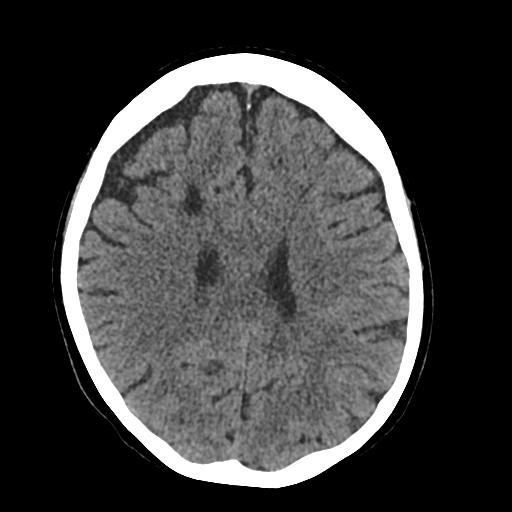Cancer: (169, 170, 227, 236)
